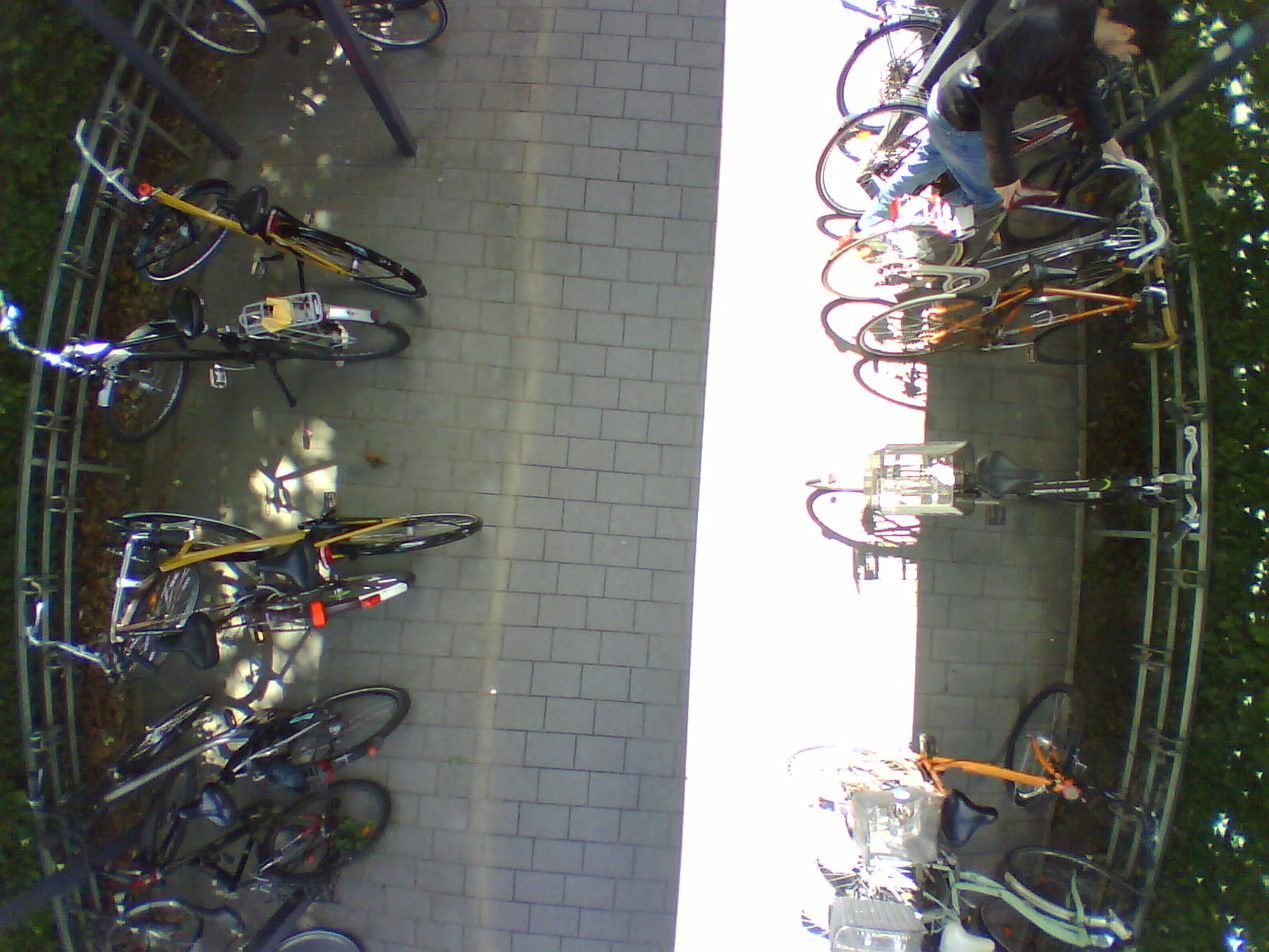bicylce: (768, 675, 1149, 835), (72, 286, 417, 444), (109, 155, 438, 305), (36, 672, 425, 798), (29, 555, 406, 676), (815, 84, 1129, 228), (811, 178, 1178, 294), (101, 483, 488, 588), (811, 429, 1185, 536), (784, 843, 1151, 952), (30, 781, 383, 889), (854, 263, 1173, 358)
saddle: (973, 440, 1055, 499), (154, 604, 223, 674), (172, 775, 242, 834), (938, 787, 1001, 850), (147, 282, 209, 341), (215, 180, 273, 232), (254, 540, 314, 589), (184, 899, 253, 941), (999, 177, 1072, 211), (1026, 252, 1081, 294), (937, 919, 1003, 952)
